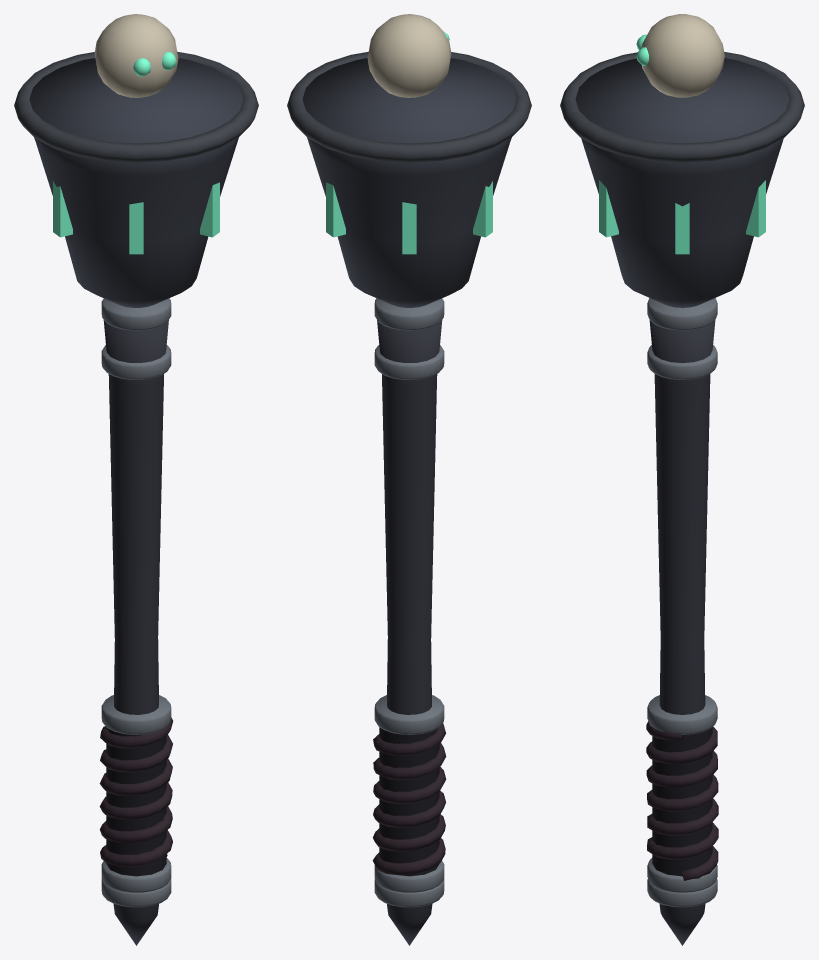
Rendered from mace_requiem.fbx.
The picture shows the model from 3 angles, left to right: view 1: azimuth 30°, elevation 25°; view 2: azimuth 150°, elevation 25°; view 3: azimuth 270°, elevation 25°; orthographic projection.
Parts seen in each view (by area): view 1: mace_requiem; view 2: mace_requiem; view 3: mace_requiem.
Part boxes in pixels (box(x1,y1,x2,y2)): mace_requiem: box(14, 14, 258, 945); mace_requiem: box(287, 14, 531, 945); mace_requiem: box(560, 14, 804, 945).
Size of the model in its own units: 0.202 by 0.845 by 0.202.
